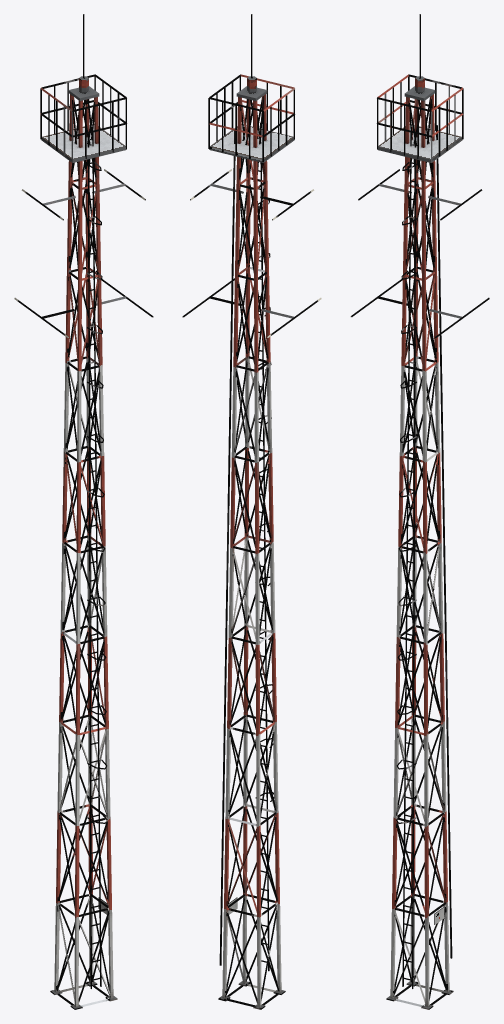
Rendered from radio_mast16.glb.
3 renders of one model, left to right at view 1: azimuth 30°, elevation 25°; view 2: azimuth 150°, elevation 25°; view 3: azimuth 330°, elevation 25°, orthographic.
Visible parts, largest first — view 1: radio_mast16_lo; view 2: radio_mast16_lo; view 3: radio_mast16_lo.
Part boxes in pixels (box(x1,y1,x2,y2)): radio_mast16_lo: box(14, 14, 153, 1009); radio_mast16_lo: box(182, 14, 321, 1009); radio_mast16_lo: box(350, 14, 489, 1009).
Size of the model in its own units: 1.6 by 17.41 by 1.72.
1 material, 1 textured.
